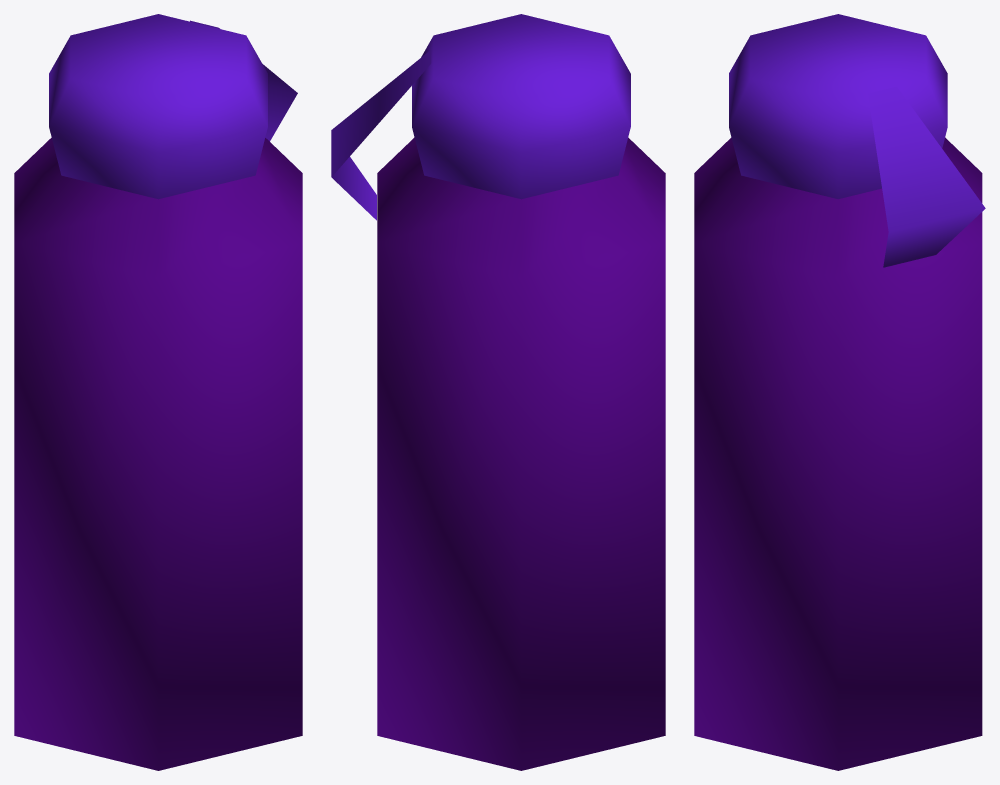
The model's file is Bottle_B.FBX.
The picture shows the model from 3 angles, left to right: view 1: azimuth 30°, elevation 25°; view 2: azimuth 150°, elevation 25°; view 3: azimuth 270°, elevation 25°; orthographic projection.
Parts seen in each view (by area): view 1: Bottle; view 2: Bottle; view 3: Bottle.
Boxes of the visible parts, <box> form: Bottle: <box>14,14,302,770</box>; Bottle: <box>331,14,665,770</box>; Bottle: <box>694,14,985,770</box>.
Size of the model in its own units: 38.23 by 76.16 by 31.27.
